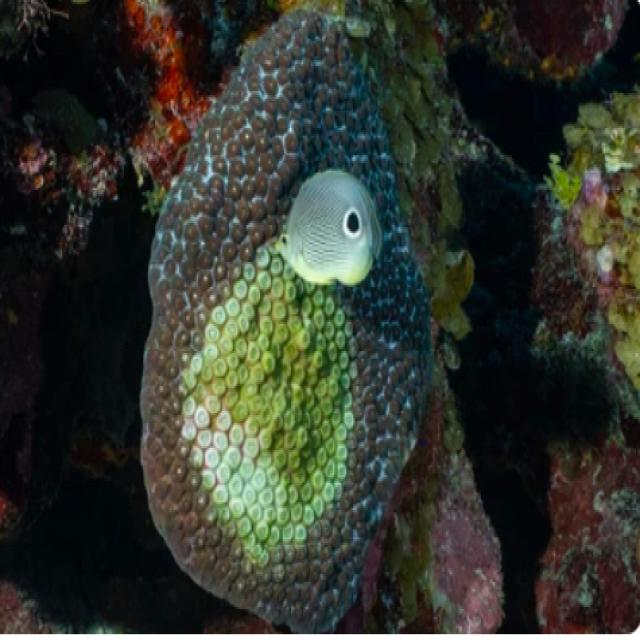Coral: (138, 7, 434, 635)
